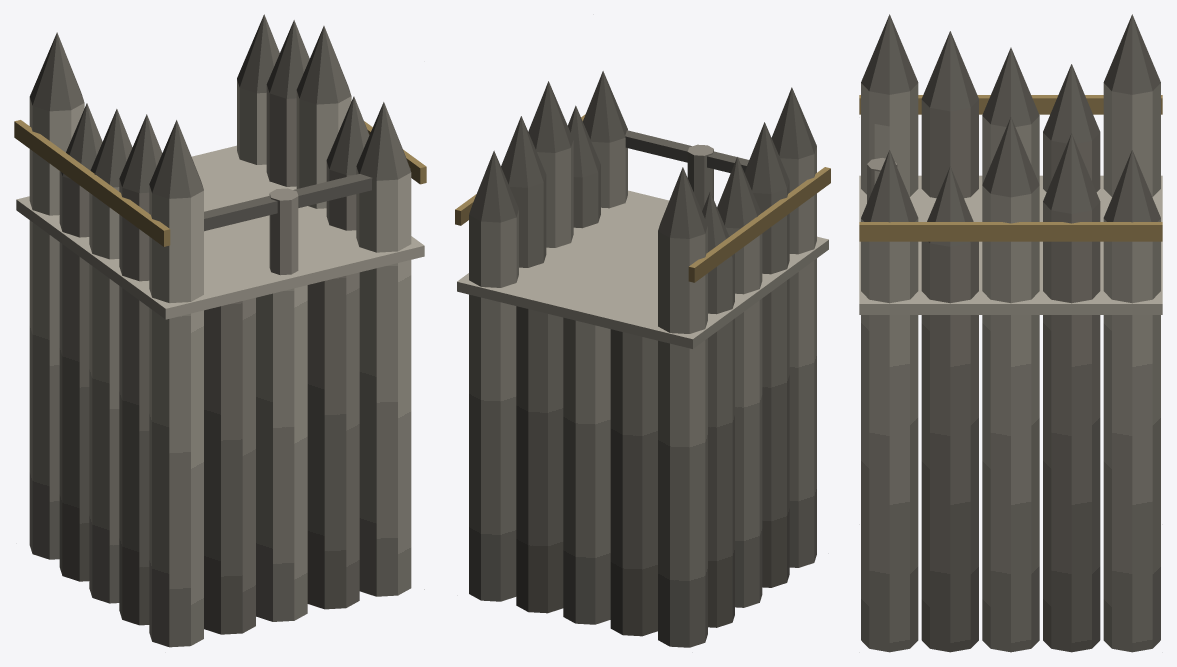
File: perimeter_wall_stone_f1.glb
3 views of the same model, side by side, from view 1: azimuth 30°, elevation 25°; view 2: azimuth 150°, elevation 25°; view 3: azimuth 270°, elevation 25° (orthographic). The views are drawn at different scales.
Bounding box in the file's own units: 2.03 × 3.9 × 2.
1 material, 1 textured.
